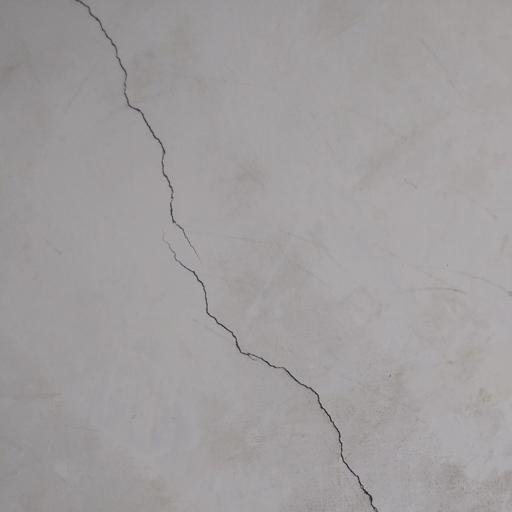major_crack: (69, 0, 384, 512)
